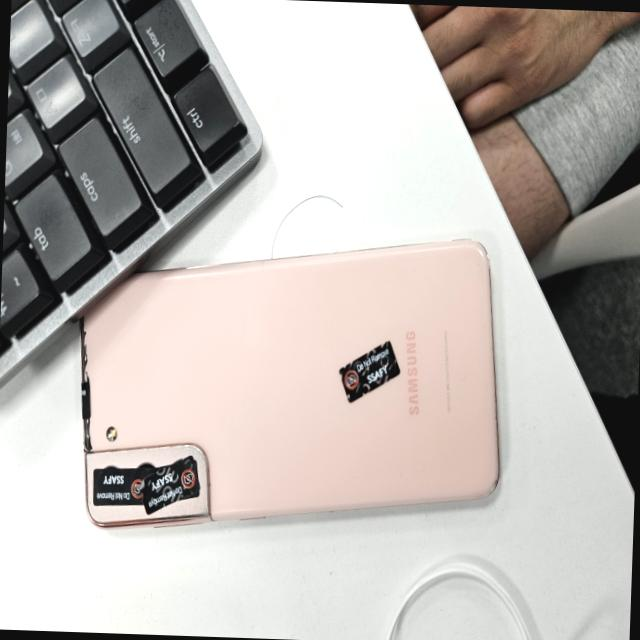phone: (74, 219, 508, 544)
removed_sticker: (338, 339, 402, 401), (140, 452, 200, 518)
sticker: (95, 466, 142, 508)
